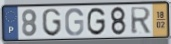8: (109, 5, 128, 37), (21, 9, 39, 38)
G: (41, 8, 63, 38), (86, 6, 107, 37), (64, 7, 85, 37)
R: (130, 6, 153, 36)
